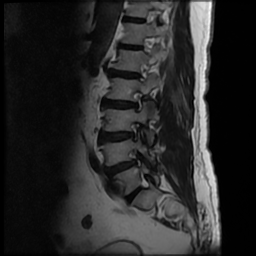LFS1: (128, 89, 147, 115)
LFS2: (122, 116, 144, 144)
LFS3: (123, 146, 146, 173)
